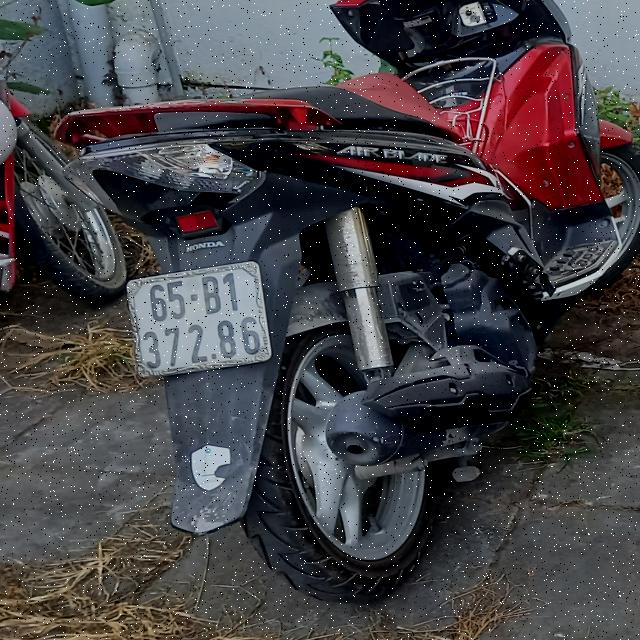1: (221, 269, 239, 312)
2: (188, 322, 208, 365)
3: (143, 329, 164, 370)
5: (164, 278, 188, 321)
6: (239, 315, 262, 356), (146, 282, 166, 324)
7: (161, 325, 180, 366)
8: (217, 321, 235, 362)
B: (200, 274, 222, 313)
